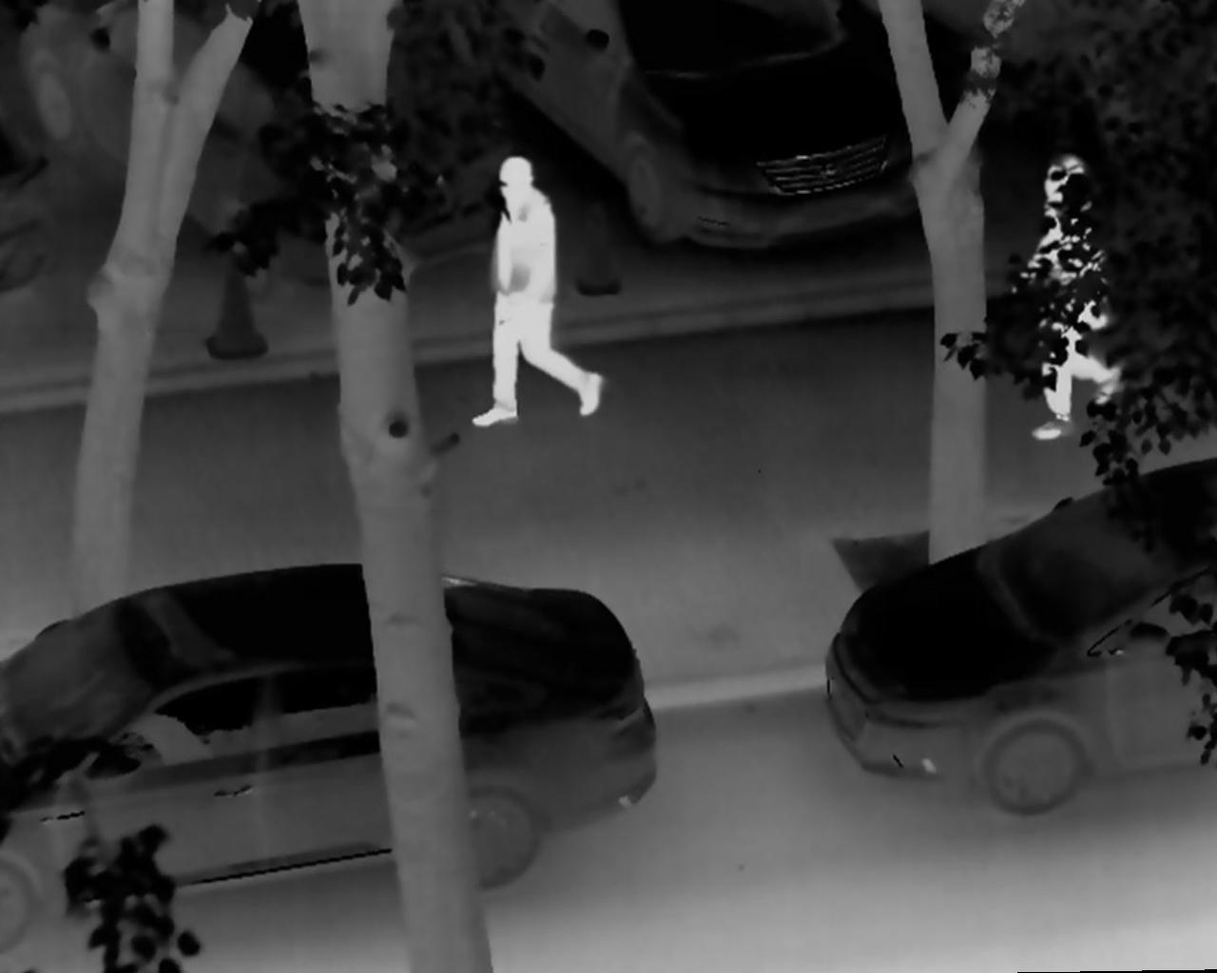person: (456, 149, 608, 430), (1006, 146, 1124, 450)
